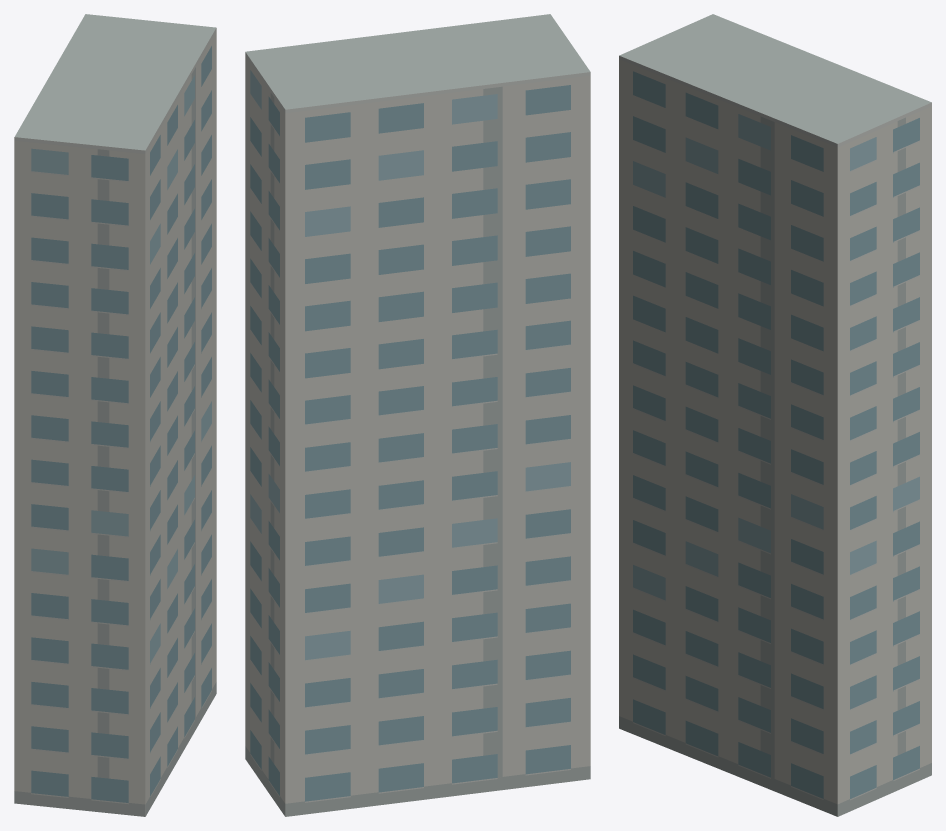
The model's file is residential-2d407836-c9da-4b49-994f-8be7448c28f1.glb.
3 views of the same model, side by side, from view 1: azimuth 30°, elevation 25°; view 2: azimuth 150°, elevation 25°; view 3: azimuth 270°, elevation 25° (orthographic). The views are drawn at different scales.
Parts seen in each view (by area): view 1: residential-2d407836-c9da-4b49-994f-8be7448c28f1.tmp; view 2: residential-2d407836-c9da-4b49-994f-8be7448c28f1.tmp; view 3: residential-2d407836-c9da-4b49-994f-8be7448c28f1.tmp.
Boxes of the visible parts, x1,y1,x2,y2 form: residential-2d407836-c9da-4b49-994f-8be7448c28f1.tmp: (14, 14, 216, 816); residential-2d407836-c9da-4b49-994f-8be7448c28f1.tmp: (245, 14, 590, 816); residential-2d407836-c9da-4b49-994f-8be7448c28f1.tmp: (619, 14, 931, 816).
Size of the model in its own units: 19.06 by 46 by 19.39.
